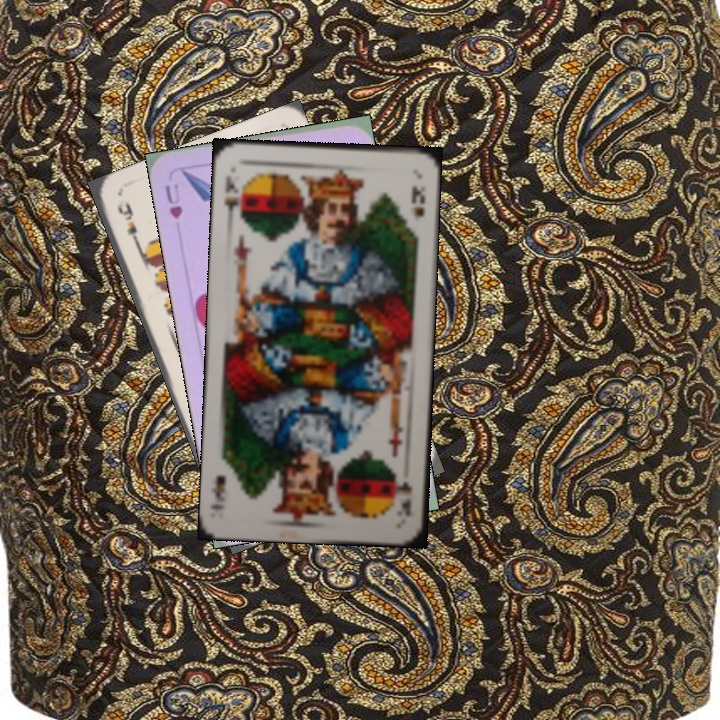E9: (113, 197, 144, 252)
HU: (161, 180, 185, 222)
SK: (220, 170, 246, 224), (393, 468, 414, 519)
